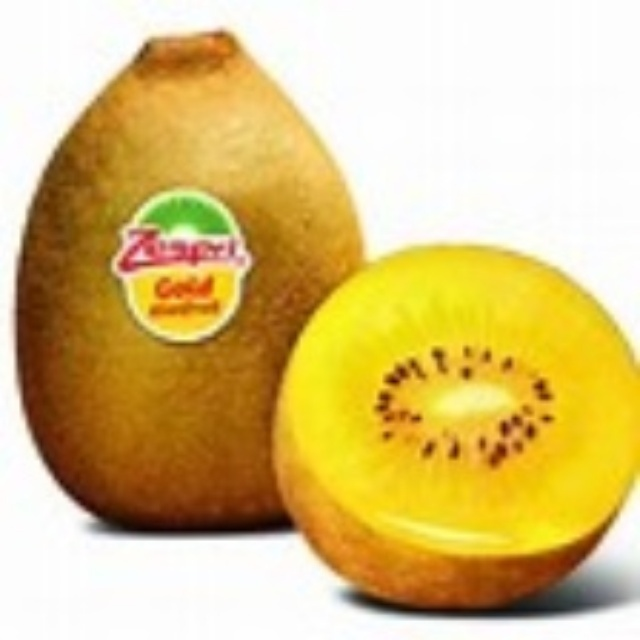kiwi: (31, 28, 351, 535), (276, 241, 639, 614)
